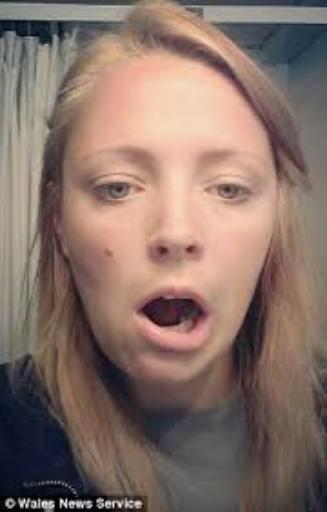left_eye: (204, 181, 255, 208)
left_lip_corner: (204, 301, 218, 329)
right_eye: (90, 179, 146, 208)
right_lip_corner: (129, 299, 145, 325)
